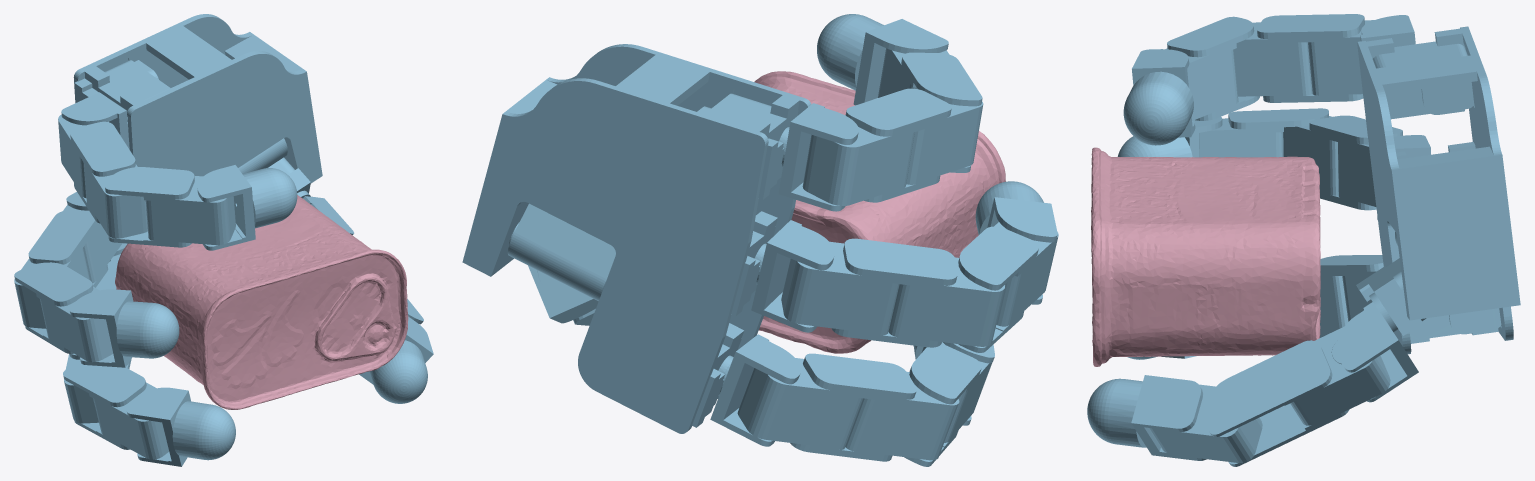
3 views of the same model, side by side, from view 1: azimuth 30°, elevation 25°; view 2: azimuth 150°, elevation 25°; view 3: azimuth 270°, elevation 25° (orthographic). The views are drawn at different scales.
Parts seen in each view (by area): view 1: world, potted_meat_can.stl; view 2: world, potted_meat_can.stl; view 3: world, potted_meat_can.stl.
Boxes of the visible parts, x1,y1,x2,y2 form: world: (14, 14, 433, 466); potted_meat_can.stl: (115, 195, 408, 409); world: (462, 14, 1058, 466); potted_meat_can.stl: (754, 71, 1005, 353); world: (1087, 14, 1520, 466); potted_meat_can.stl: (1091, 147, 1320, 366).
Bounding box in the file's own units: 0.1811 × 0.1484 × 0.1577.
